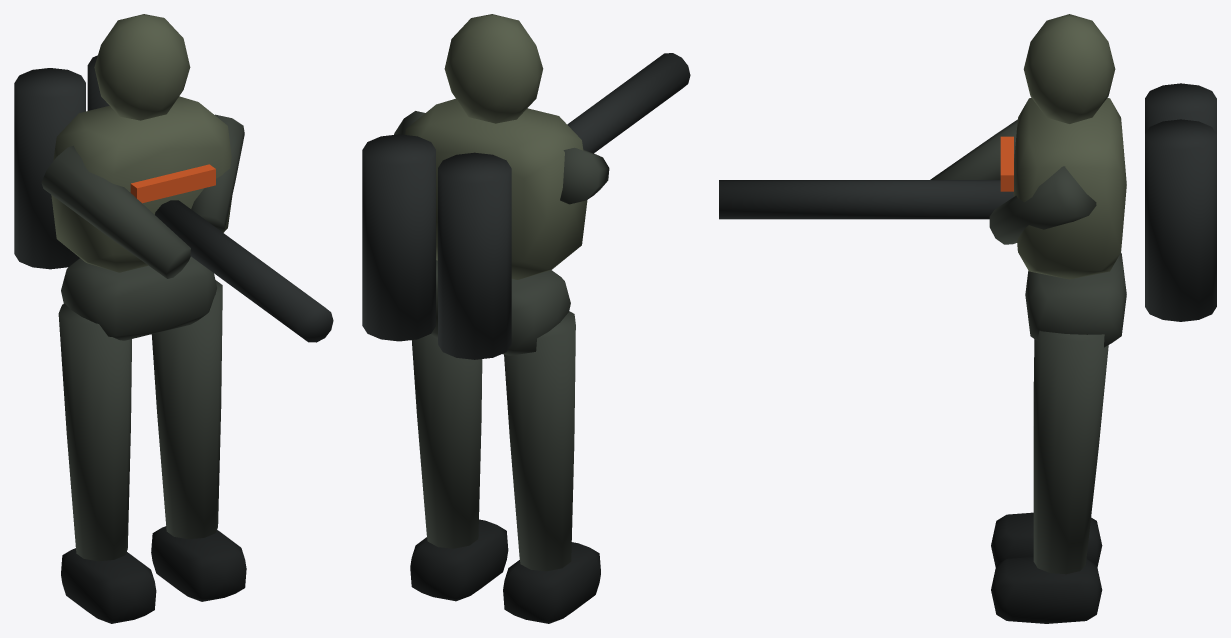
Rendered from Bastion_FlameTrooper_LOD1.obj.
3 views of the same model, side by side, from view 1: azimuth 30°, elevation 25°; view 2: azimuth 150°, elevation 25°; view 3: azimuth 270°, elevation 25° (orthographic). The views are drawn at different scales.
Parts seen in each view (by area): view 1: LOD1LeftLeg, LOD1Torso, LOD1RightLeg, LOD1TankL, LOD1Pelvis, LOD1Head, LOD1LeftArm, LOD1Weapon, LOD1RightBoot, LOD1LeftBoot, LOD1RightArm, LOD1Accent (+1 smaller); view 2: LOD1TankL, LOD1TankR, LOD1LeftLeg, LOD1Torso, LOD1RightLeg, LOD1Head, LOD1RightBoot, LOD1LeftBoot, LOD1Weapon, LOD1Pelvis, LOD1LeftArm; view 3: LOD1RightLeg, LOD1Torso, LOD1TankR, LOD1Weapon, LOD1Head, LOD1Pelvis, LOD1RightBoot, LOD1RightArm, LOD1TankL, LOD1LeftBoot, LOD1LeftArm, LOD1Accent.
Part boxes in pixels (x1=…): LOD1LeftLeg: x1=58, y1=303, x2=131, y2=561; LOD1Torso: x1=51, y1=96, x2=232, y2=272; LOD1RightLeg: x1=151, y1=280, x2=222, y2=539; LOD1TankL: x1=14, y1=68, x2=85, y2=269; LOD1Pelvis: x1=61, y1=256, x2=216, y2=340; LOD1Head: x1=94, y1=14, x2=190, y2=120; LOD1LeftArm: x1=41, y1=145, x2=190, y2=278; LOD1Weapon: x1=155, y1=200, x2=333, y2=342; LOD1RightBoot: x1=151, y1=526, x2=246, y2=601; LOD1LeftBoot: x1=61, y1=548, x2=156, y2=623; LOD1RightArm: x1=191, y1=114, x2=244, y2=231; LOD1Accent: x1=130, y1=164, x2=215, y2=203; LOD1TankL: x1=438, y1=152, x2=511, y2=359; LOD1TankR: x1=362, y1=134, x2=435, y2=341; LOD1LeftLeg: x1=504, y1=311, x2=575, y2=571; LOD1Torso: x1=405, y1=98, x2=587, y2=279; LOD1RightLeg: x1=411, y1=334, x2=482, y2=548; LOD1Head: x1=444, y1=14, x2=543, y2=123; LOD1RightBoot: x1=410, y1=519, x2=508, y2=601; LOD1LeftBoot: x1=503, y1=542, x2=600, y2=623; LOD1Weapon: x1=567, y1=53, x2=690, y2=153; LOD1Pelvis: x1=430, y1=260, x2=570, y2=355; LOD1LeftArm: x1=560, y1=147, x2=609, y2=204; LOD1RightLeg: x1=1033, y1=330, x2=1108, y2=574; LOD1Torso: x1=1013, y1=98, x2=1126, y2=279; LOD1TankR: x1=1145, y1=119, x2=1216, y2=321; LOD1Weapon: x1=719, y1=180, x2=1013, y2=219; LOD1Head: x1=1023, y1=14, x2=1115, y2=123; LOD1Pelvis: x1=1025, y1=253, x2=1126, y2=347; LOD1RightBoot: x1=991, y1=557, x2=1102, y2=623; LOD1RightArm: x1=989, y1=166, x2=1096, y2=244; LOD1TankL: x1=1145, y1=83, x2=1216, y2=133; LOD1LeftBoot: x1=991, y1=512, x2=1102, y2=567; LOD1LeftArm: x1=930, y1=119, x2=1017, y2=179; LOD1Accent: x1=1000, y1=136, x2=1013, y2=191.
Size of the model in its own units: 0.7113 by 1.94 by 1.52.
Materials: 1 (1 with a texture image).
